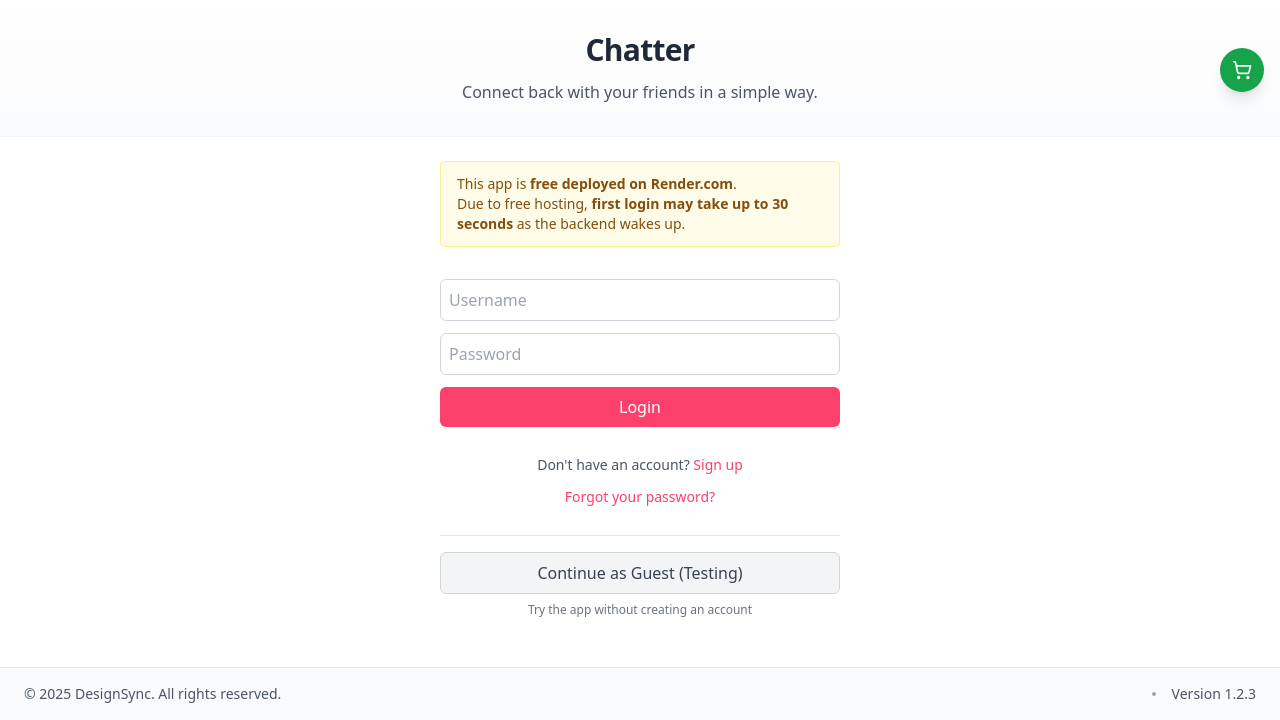
Buy Request Feature › should validate contact number format
The width and height of the screenshot is (1280, 720).
# Open form
Click the button with test id "floating-buy-button".
click(1242, 70)  # box x1=1220 y1=48 x2=1264 y2=92
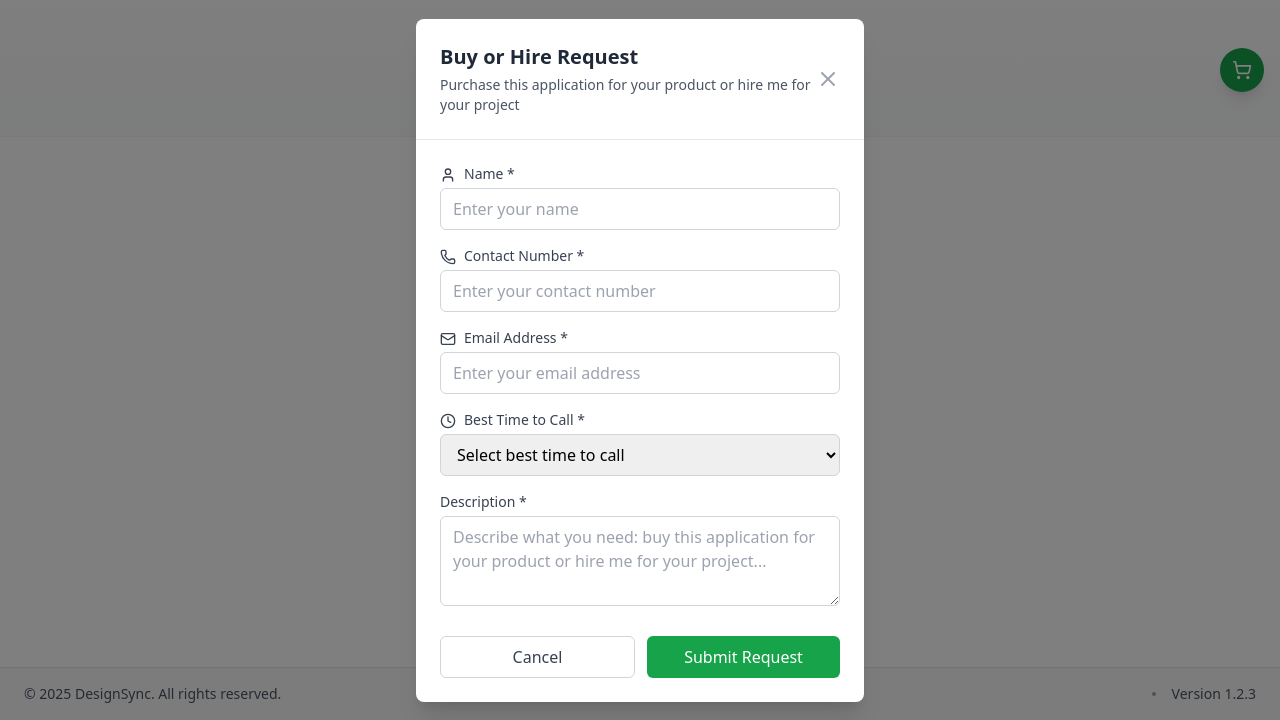
# Fill with invalid contact number but valid other fields
Type "John Doe" into the field with test id "buy-form-name".
click(640, 209); type("John Doe")  # box x1=440 y1=188 x2=840 y2=230
Type "invalid-contact" into the field with test id "buy-form-contact".
click(640, 291); type("invalid-contact")  # box x1=440 y1=270 x2=840 y2=312
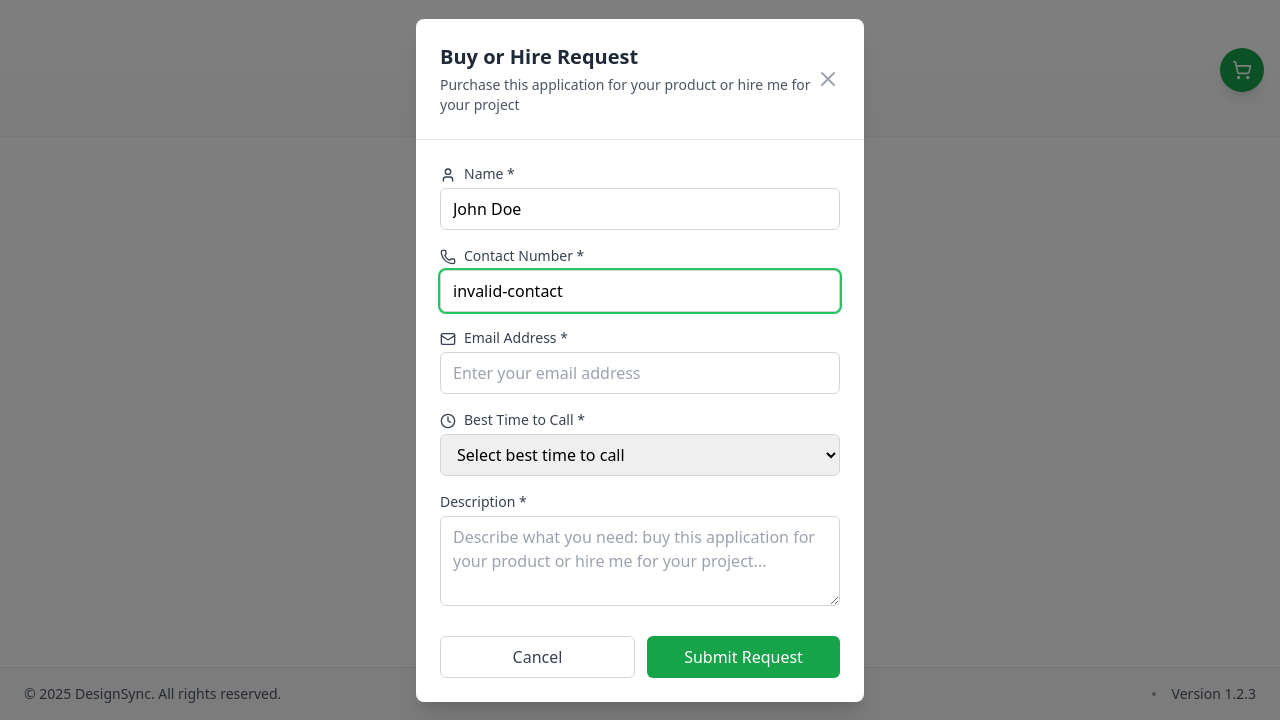
Type "john@example.com" into the field with test id "buy-form-email".
click(640, 373); type("john@example.com")  # box x1=440 y1=352 x2=840 y2=394
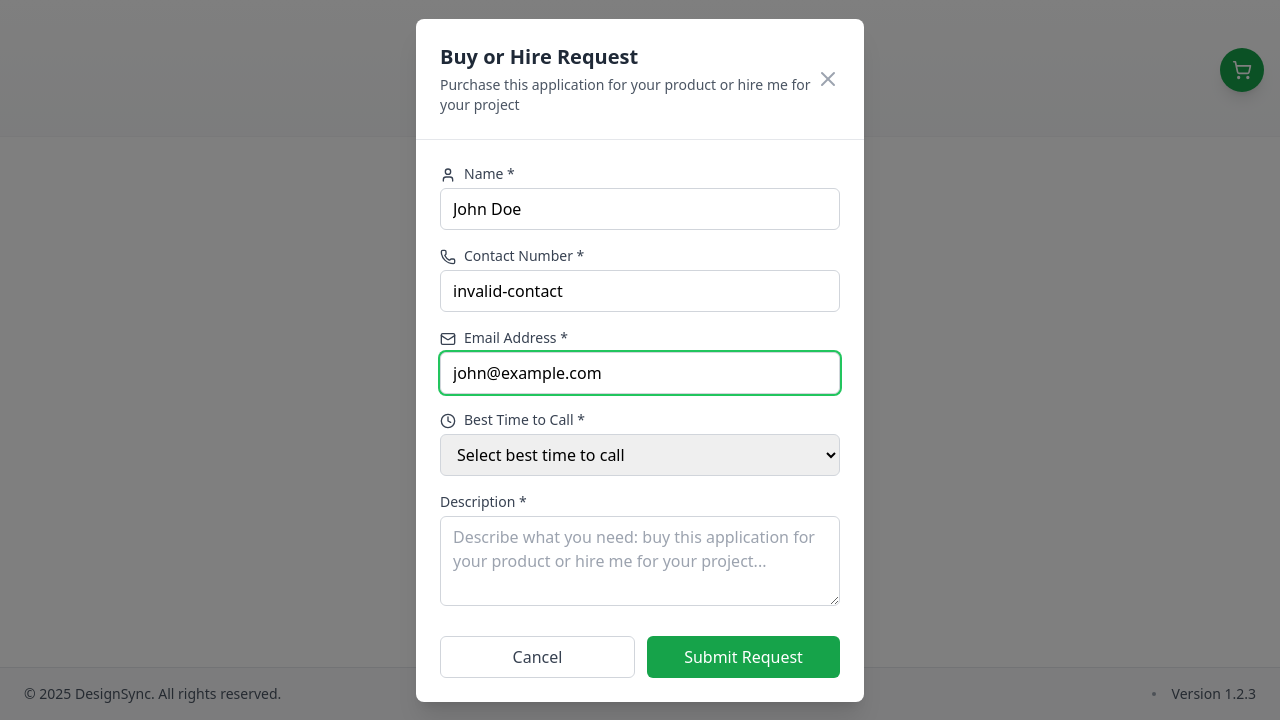
Select "Morning (9 AM - 12 PM)" in the dropdown with test id "buy-form-time" at (640, 455), box x1=440 y1=434 x2=840 y2=476
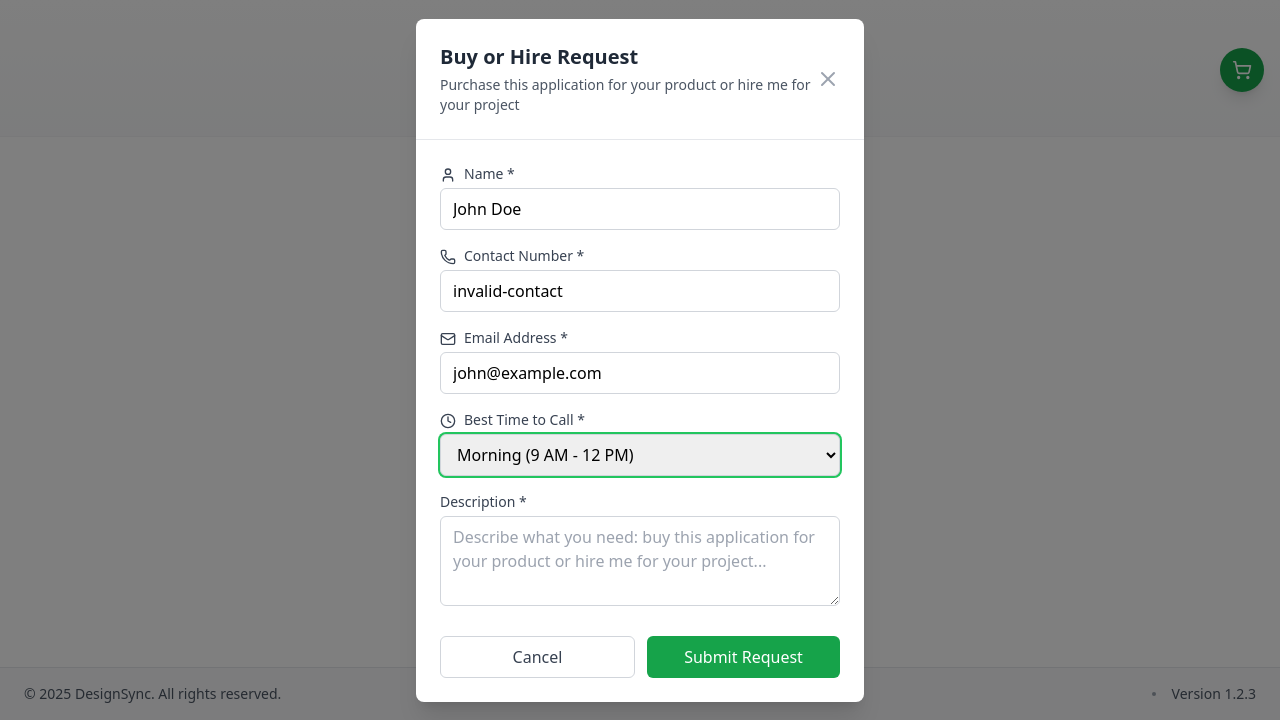
Type "I want to buy this application for my company." into the text box with test id "buy-form-description".
click(640, 561); type("I want to buy this application for my company.")  # box x1=440 y1=516 x2=840 y2=606
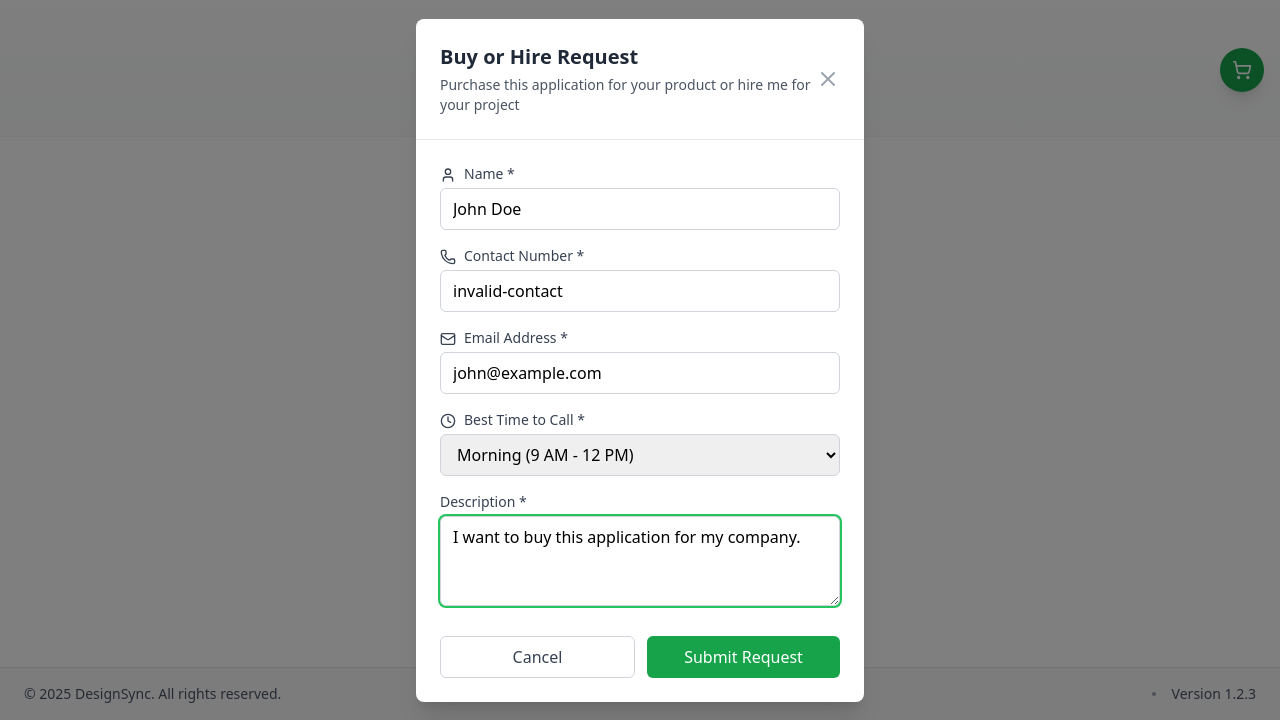
# Try to submit
Click the button with test id "buy-form-submit".
click(744, 657)  # box x1=647 y1=636 x2=840 y2=678
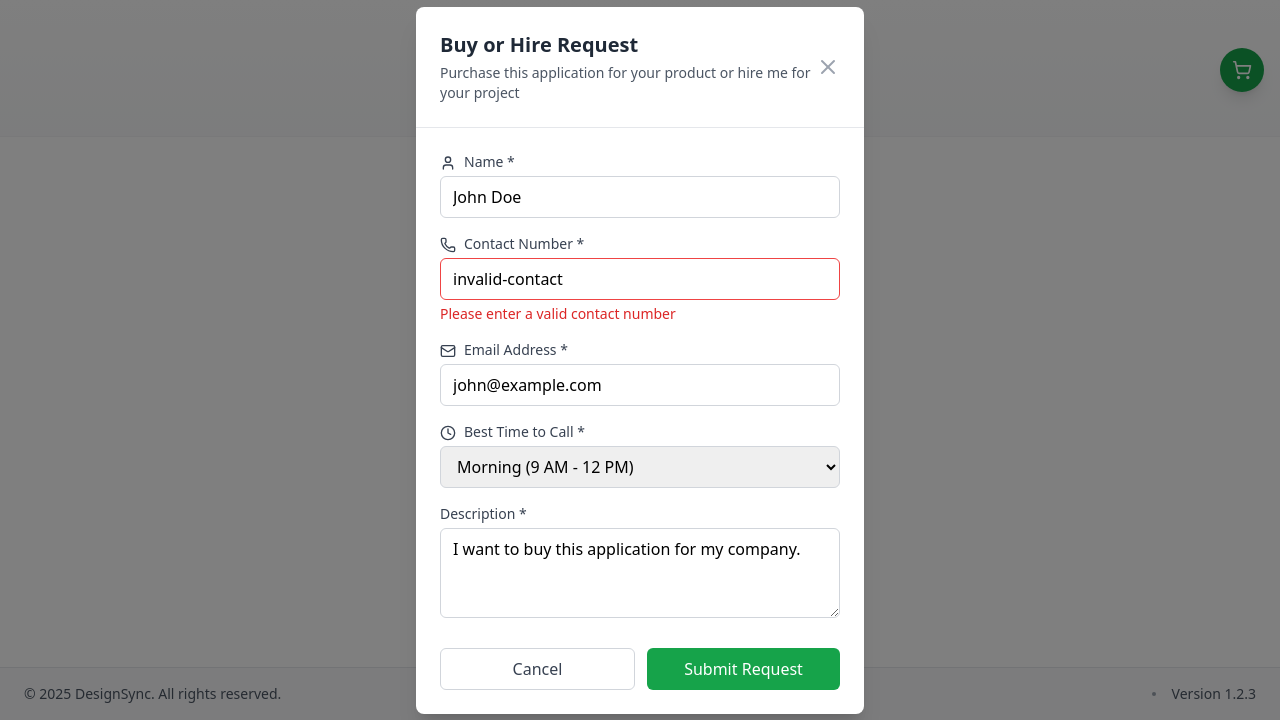
Now the text "Please enter a valid contact number" is shown, box x1=440 y1=304 x2=676 y2=322
